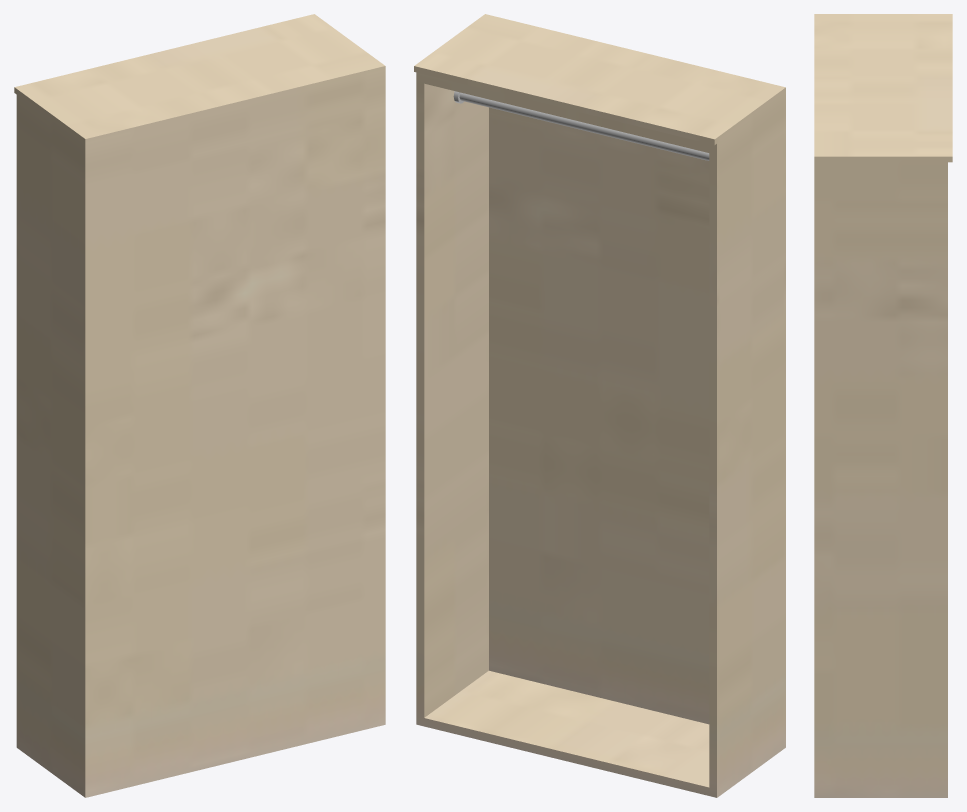
File: Closet34.glb
3 views of the same model, side by side, from view 1: azimuth 30°, elevation 25°; view 2: azimuth 150°, elevation 25°; view 3: azimuth 270°, elevation 25° (orthographic). The views are drawn at different scales.
Parts seen in each view (by area): view 1: Closet34_model; view 2: Closet34_model; view 3: Closet34_model.
Part boxes in pixels (<box>): Closet34_model: <box>14,14,385,797</box>; Closet34_model: <box>414,14,785,797</box>; Closet34_model: <box>814,14,952,797</box>.
Bounding box in the file's own units: 2.47 × 5.18 × 1.01.
1 material, 1 textured.
